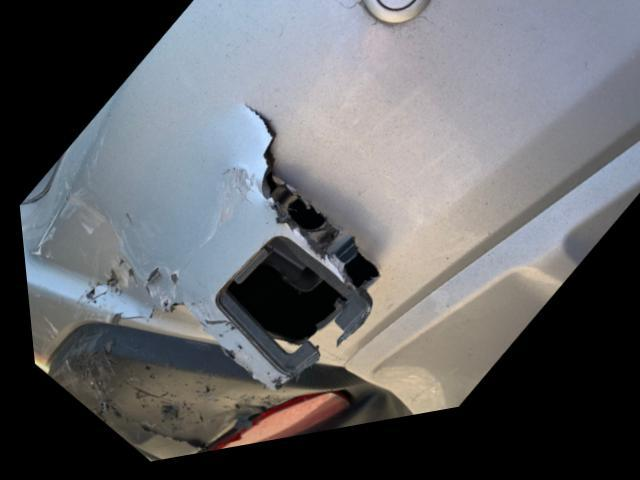crack: (242, 109, 380, 306)
no part: (206, 244, 366, 386)
